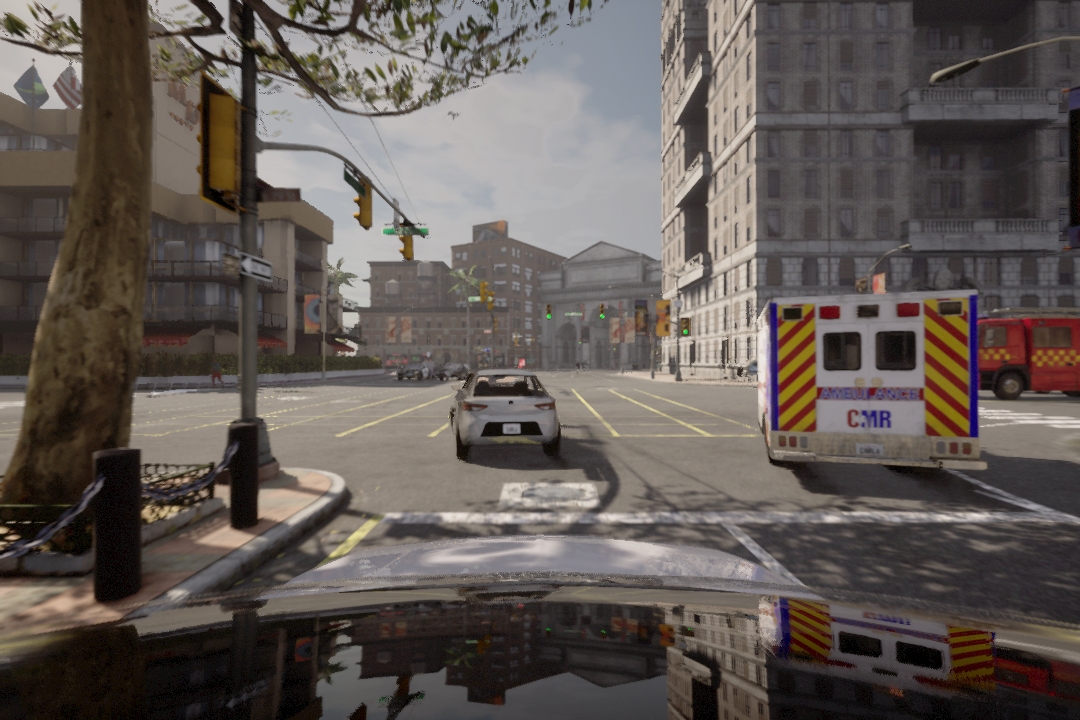TrafficLight: (680, 319, 691, 338), (597, 299, 606, 322), (544, 302, 554, 321)
